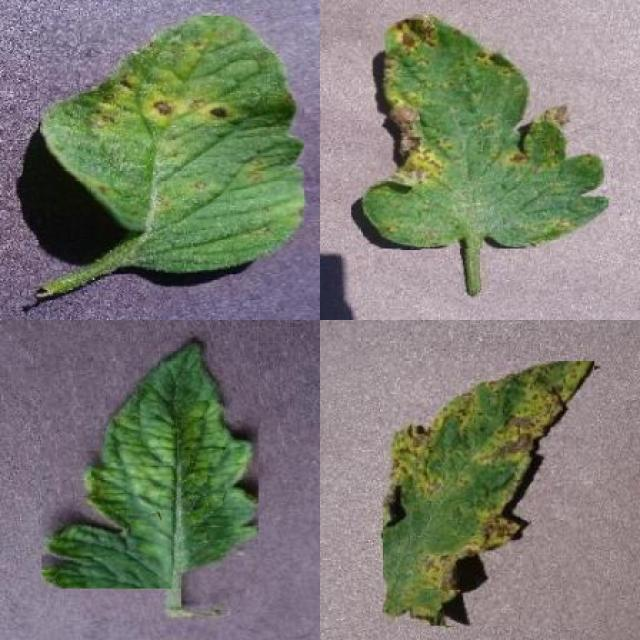Mosaic Virus: (42, 340, 258, 589)
Septoria: (39, 16, 304, 274), (363, 15, 608, 248), (384, 360, 595, 626)
